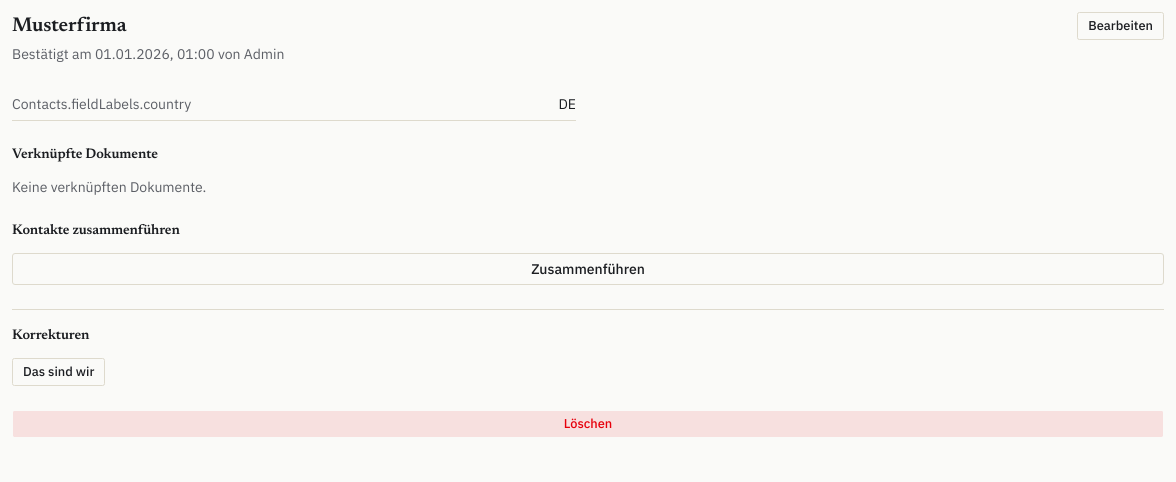
Test: ContactDetailClient - correction buttons (decisions/0037-correction-buttons.md) › shows the German confirmation copy for 'Das sind wir' before submitting
This screenshot has width=1176, height=482.
Click the button "Das sind wir" at (59, 372), box [12, 358, 105, 386]
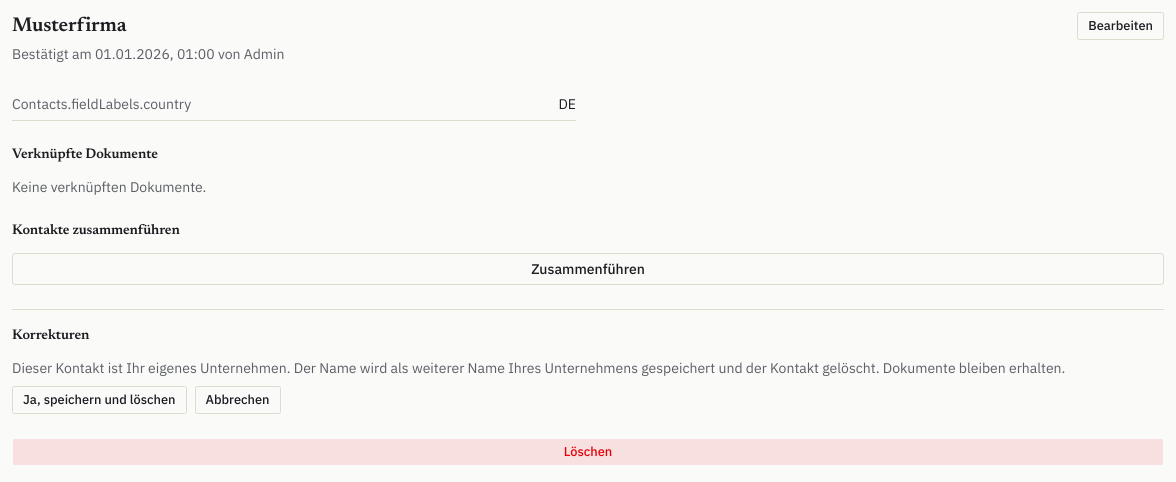
Expected: the text "Dieser Kontakt ist Ihr eigenes Unternehmen. Der Name wird als weiterer Name Ihres Unternehmens gespeichert und der Konta" is shown, [12, 359, 1065, 377]
